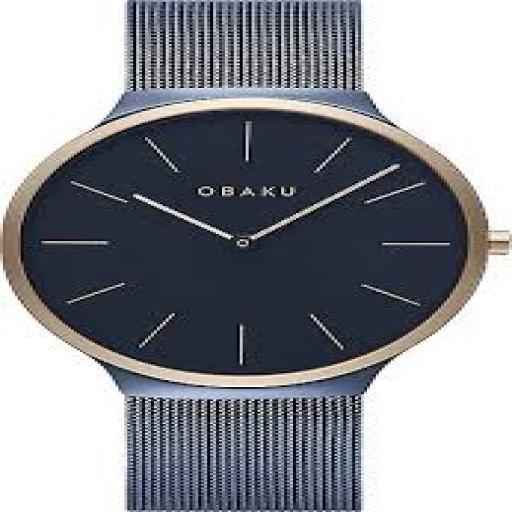KolSaati: (1, 2, 495, 511)
